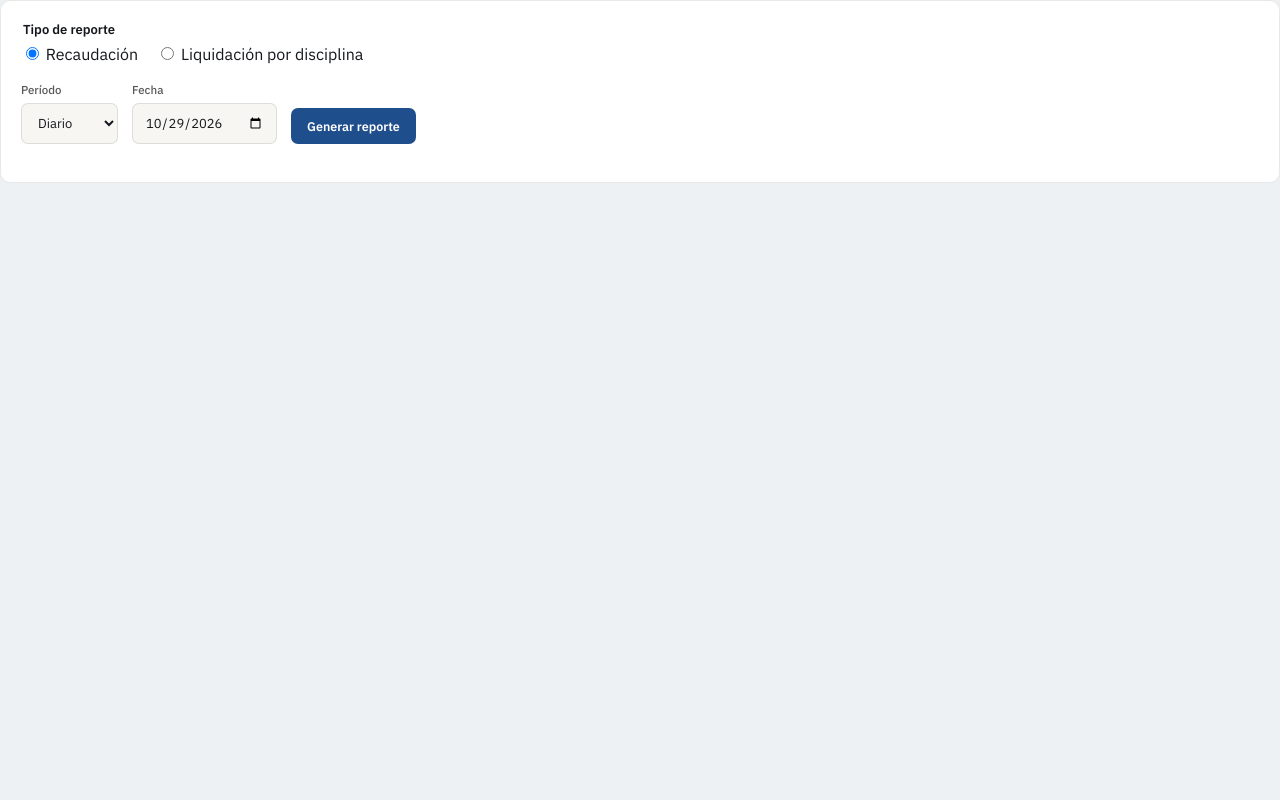
Scenario: ReportsView: revenue › warns instead of printing in silence when a table does not add up to the total
Click the button "Generar reporte" at x=353, y=126, box left=291, top=108, right=416, bottom=144
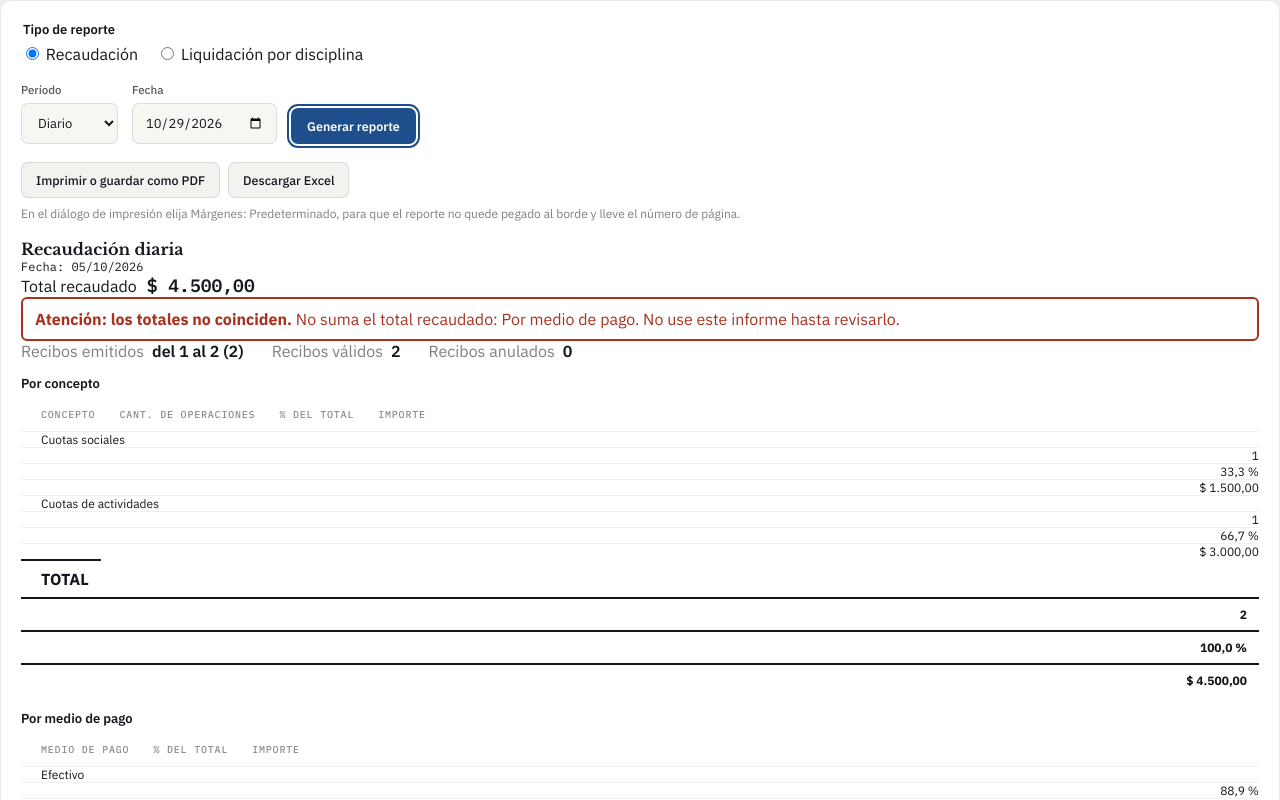
Expected: the message shows "los totales no coinciden", left=35, top=309, right=292, bottom=329
Expected: the message shows "Por medio de pago", left=502, top=309, right=635, bottom=329
